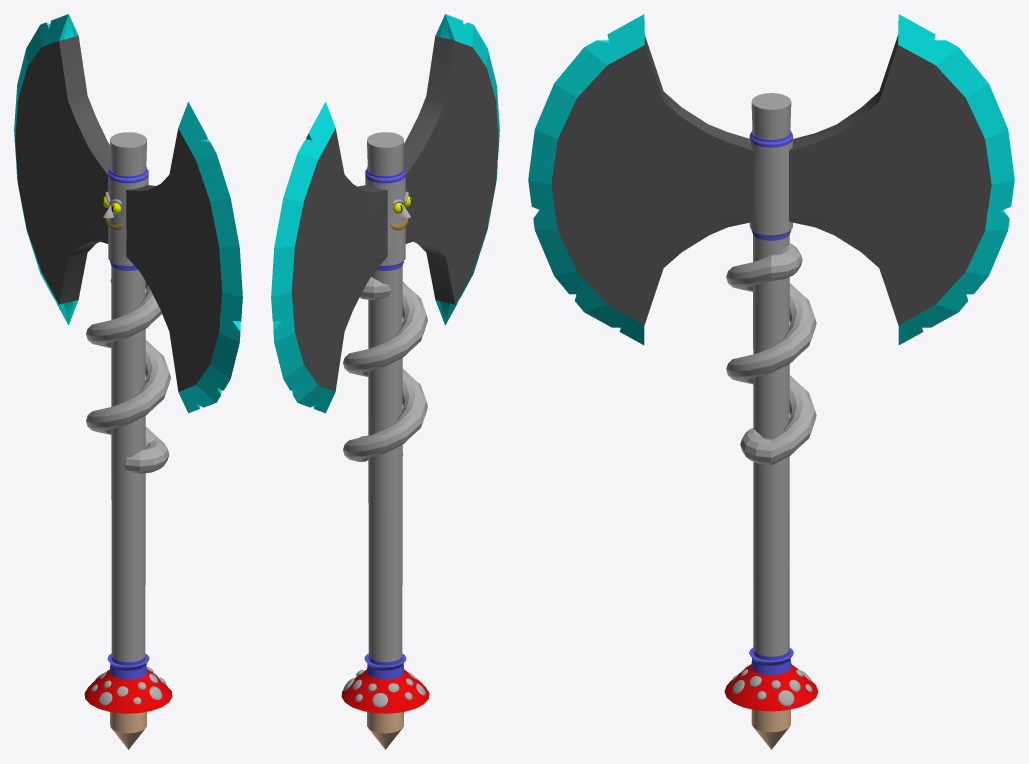
The model's file is Hacha.fbx.
3 renders of one model, left to right at view 1: azimuth 30°, elevation 25°; view 2: azimuth 150°, elevation 25°; view 3: azimuth 270°, elevation 25°, orthographic. The views are drawn at different scales.
Visible parts, largest first — view 1: Hacha, Rosca; view 2: Hacha, Rosca; view 3: Hacha, Rosca.
Part boxes in pixels (bbox=[...]): Hacha: bbox=[14, 14, 242, 749]; Rosca: bbox=[86, 279, 170, 473]; Hacha: bbox=[271, 14, 499, 749]; Rosca: bbox=[343, 277, 427, 461]; Hacha: bbox=[528, 14, 1014, 749]; Rosca: bbox=[726, 243, 816, 465].
Bounding box in the file's own units: 2.08 × 17.94 × 10.75.
